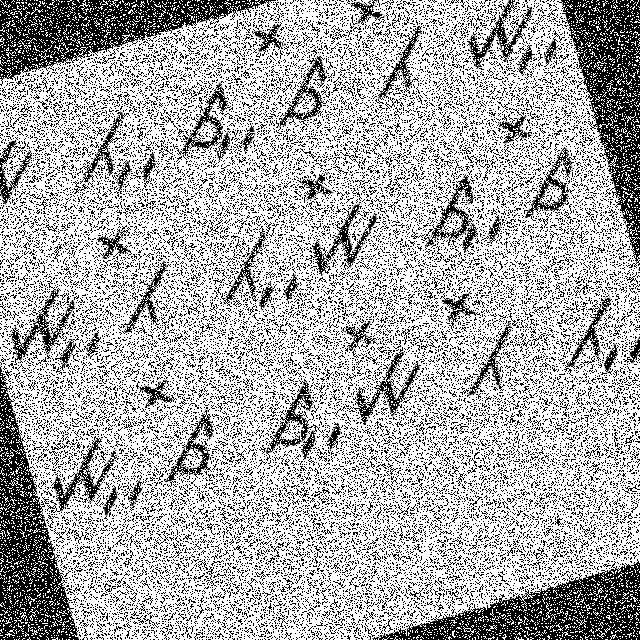bah: (193, 222, 306, 326), (58, 96, 166, 202), (546, 278, 639, 388)
bo: (428, 268, 538, 406), (86, 212, 192, 344), (337, 0, 443, 106)
cah: (232, 367, 350, 478), (156, 68, 266, 174), (404, 165, 510, 264)
co: (484, 95, 596, 230), (130, 361, 236, 494), (244, 10, 344, 136)
mah: (0, 261, 110, 388), (35, 421, 152, 529), (443, 0, 567, 91)
mo: (329, 302, 436, 428), (283, 156, 391, 278), (0, 91, 50, 223)
